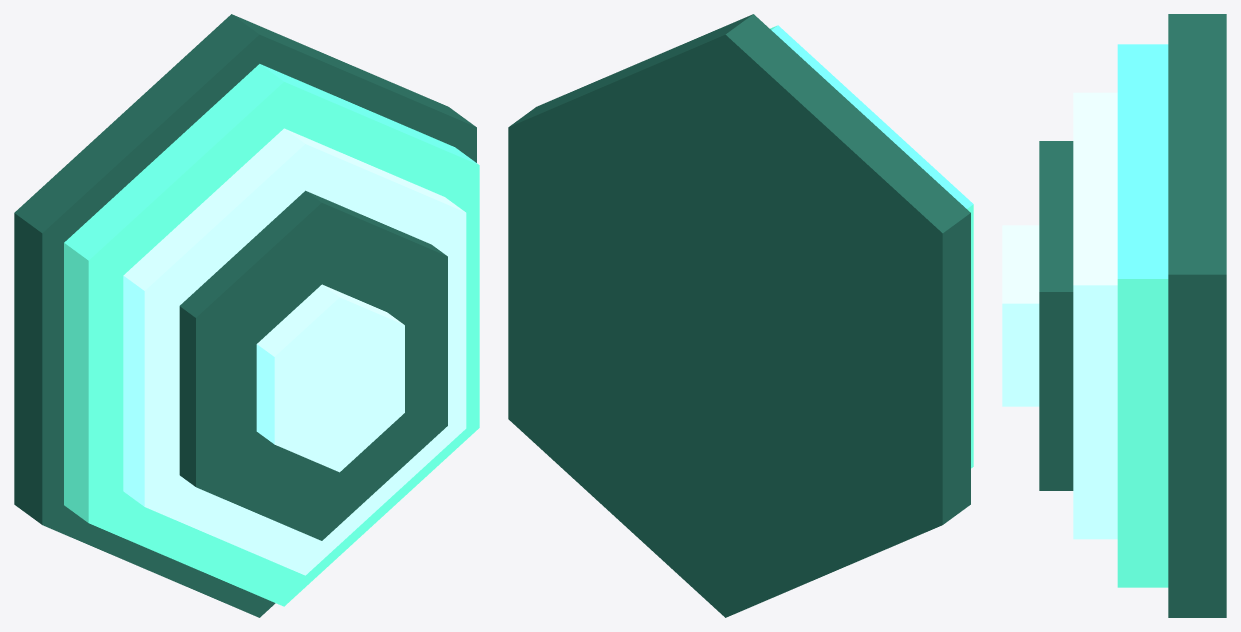
File: effect-turtle-formation.glb
3 views of the same model, side by side, from view 1: azimuth 30°, elevation 25°; view 2: azimuth 150°, elevation 25°; view 3: azimuth 270°, elevation 25° (orthographic). The views are drawn at different scales.
Parts seen in each view (by area): view 1: Turtle_ShieldFace, Turtle_ShieldInset, Turtle_ShieldRim, Turtle_ShieldBack, Turtle_ShellCore; view 2: Turtle_ShieldBack, Turtle_ShieldFace; view 3: Turtle_ShieldBack, Turtle_ShieldFace, Turtle_ShieldRim, Turtle_ShieldInset, Turtle_ShellCore.
Boxes of the visible parts, x1,y1,x2,y2 form: Turtle_ShieldFace: [64, 64, 479, 606]; Turtle_ShieldInset: [179, 190, 447, 540]; Turtle_ShieldRim: [123, 128, 466, 575]; Turtle_ShieldBack: [14, 14, 476, 617]; Turtle_ShellCore: [256, 284, 404, 472]; Turtle_ShieldBack: [508, 14, 970, 617]; Turtle_ShieldFace: [770, 25, 973, 468]; Turtle_ShieldBack: [1168, 14, 1226, 617]; Turtle_ShieldFace: [1117, 44, 1168, 587]; Turtle_ShieldRim: [1073, 92, 1117, 539]; Turtle_ShieldInset: [1039, 141, 1073, 490]; Turtle_ShellCore: [1002, 225, 1039, 406].
Size of the model in its own units: 0.3118 by 0.4 by 0.1345.
